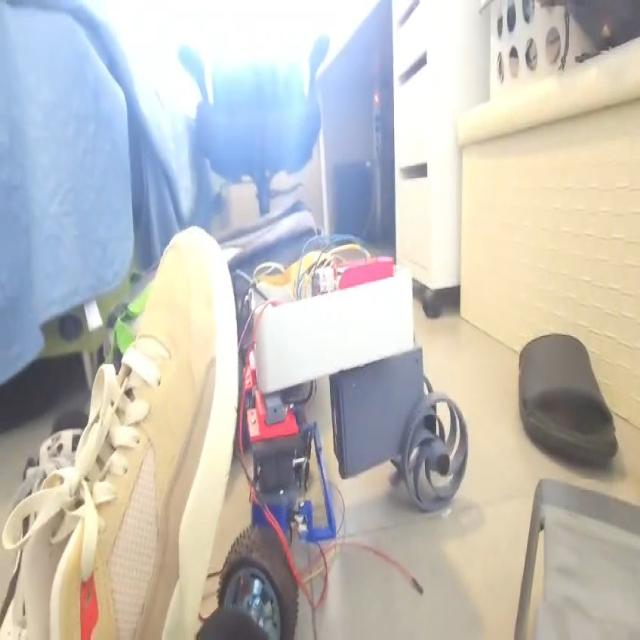Robot: (218, 252, 470, 640)
